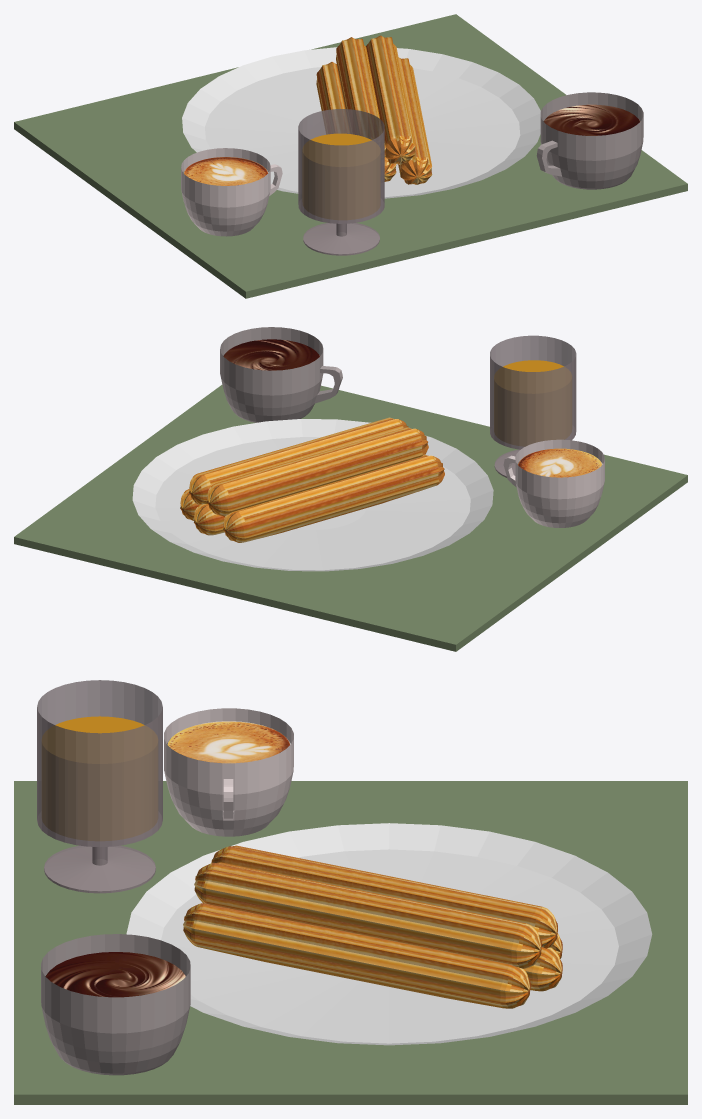
The model's file is Menu1Espana.glb.
3 views of the same model, one above another, from view 1: azimuth 30°, elevation 25°; view 2: azimuth 150°, elevation 25°; view 3: azimuth 270°, elevation 25° (orthographic). The views are drawn at different scales.
Parts seen in each view (by area): view 1: Cube, Cylinder, Cylinder.010, Circle.002, Cylinder.011, Circle, Cylinder.004, Cylinder.005, Cylinder.006, Cylinder.003, Cylinder.012, Cylinder.002; view 2: Cube, Cylinder, Cylinder.010, Cylinder.002, Cylinder.005, Circle.002, Cylinder.011, Circle, Cylinder.004, Cylinder.006, Cylinder.012, Cylinder.001; view 3: Cube, Cylinder, Cylinder.010, Cylinder.003, Cylinder.004, Circle.002, Cylinder.011, Circle, Cylinder.005, Cylinder.006, Cylinder.012, Cylinder.001.
Part boxes in pixels (bbox=[...]): Cube: bbox=[14, 14, 687, 298]; Cylinder: bbox=[182, 47, 540, 198]; Cylinder.010: bbox=[298, 109, 384, 255]; Circle.002: bbox=[536, 92, 643, 189]; Cylinder.011: bbox=[303, 133, 379, 219]; Circle: bbox=[181, 148, 282, 236]; Cylinder.004: bbox=[366, 35, 415, 164]; Cylinder.005: bbox=[336, 37, 385, 156]; Cylinder.006: bbox=[543, 104, 640, 135]; Cylinder.003: bbox=[398, 57, 432, 184]; Cylinder.012: bbox=[183, 157, 268, 185]; Cylinder.002: bbox=[316, 62, 349, 133]; Cube: bbox=[14, 385, 687, 651]; Cylinder: bbox=[132, 419, 493, 571]; Cylinder.010: bbox=[490, 335, 576, 477]; Cylinder.002: bbox=[223, 454, 444, 542]; Cylinder.005: bbox=[207, 427, 428, 516]; Circle.002: bbox=[220, 327, 342, 422]; Cylinder.011: bbox=[494, 360, 571, 445]; Circle: bbox=[503, 439, 604, 527]; Cylinder.004: bbox=[189, 417, 408, 504]; Cylinder.006: bbox=[223, 339, 319, 370]; Cylinder.012: bbox=[517, 448, 602, 477]; Cylinder.001: bbox=[194, 504, 224, 535]; Cube: bbox=[14, 781, 687, 1104]; Cylinder: bbox=[126, 823, 652, 1045]; Cylinder.010: bbox=[37, 680, 162, 893]; Cylinder.003: bbox=[183, 903, 530, 1008]; Cylinder.004: bbox=[194, 862, 541, 968]; Circle.002: bbox=[41, 934, 190, 1075]; Cylinder.011: bbox=[42, 716, 157, 840]; Circle: bbox=[164, 708, 293, 836]; Cylinder.005: bbox=[211, 845, 557, 948]; Cylinder.006: bbox=[45, 952, 185, 997]; Cylinder.012: bbox=[167, 721, 290, 763]; Cylinder.001: bbox=[524, 947, 562, 991].
Bounding box in the file's own units: 22.67 × 5.88 × 20.59.
Materials: 15 (9 with a texture image).
